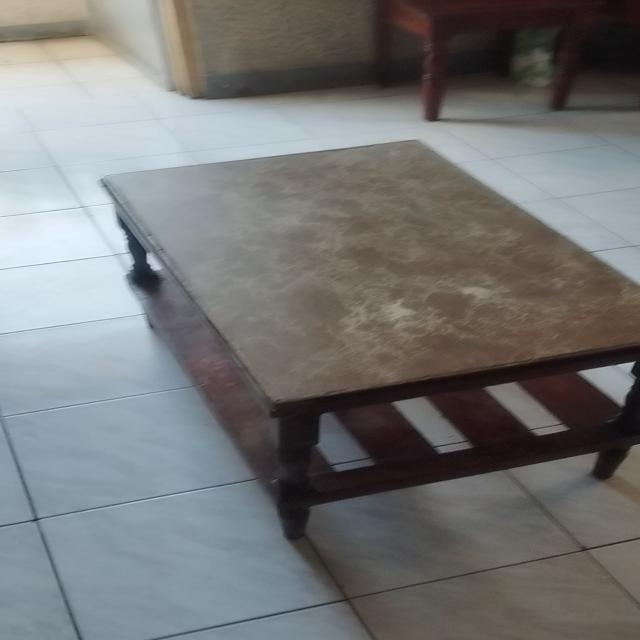table: (97, 134, 640, 538)
